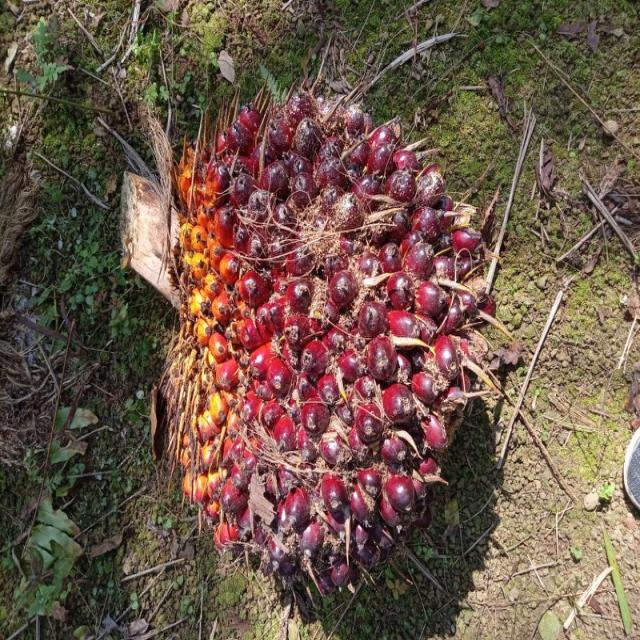fraksi 1: (121, 42, 524, 618)
